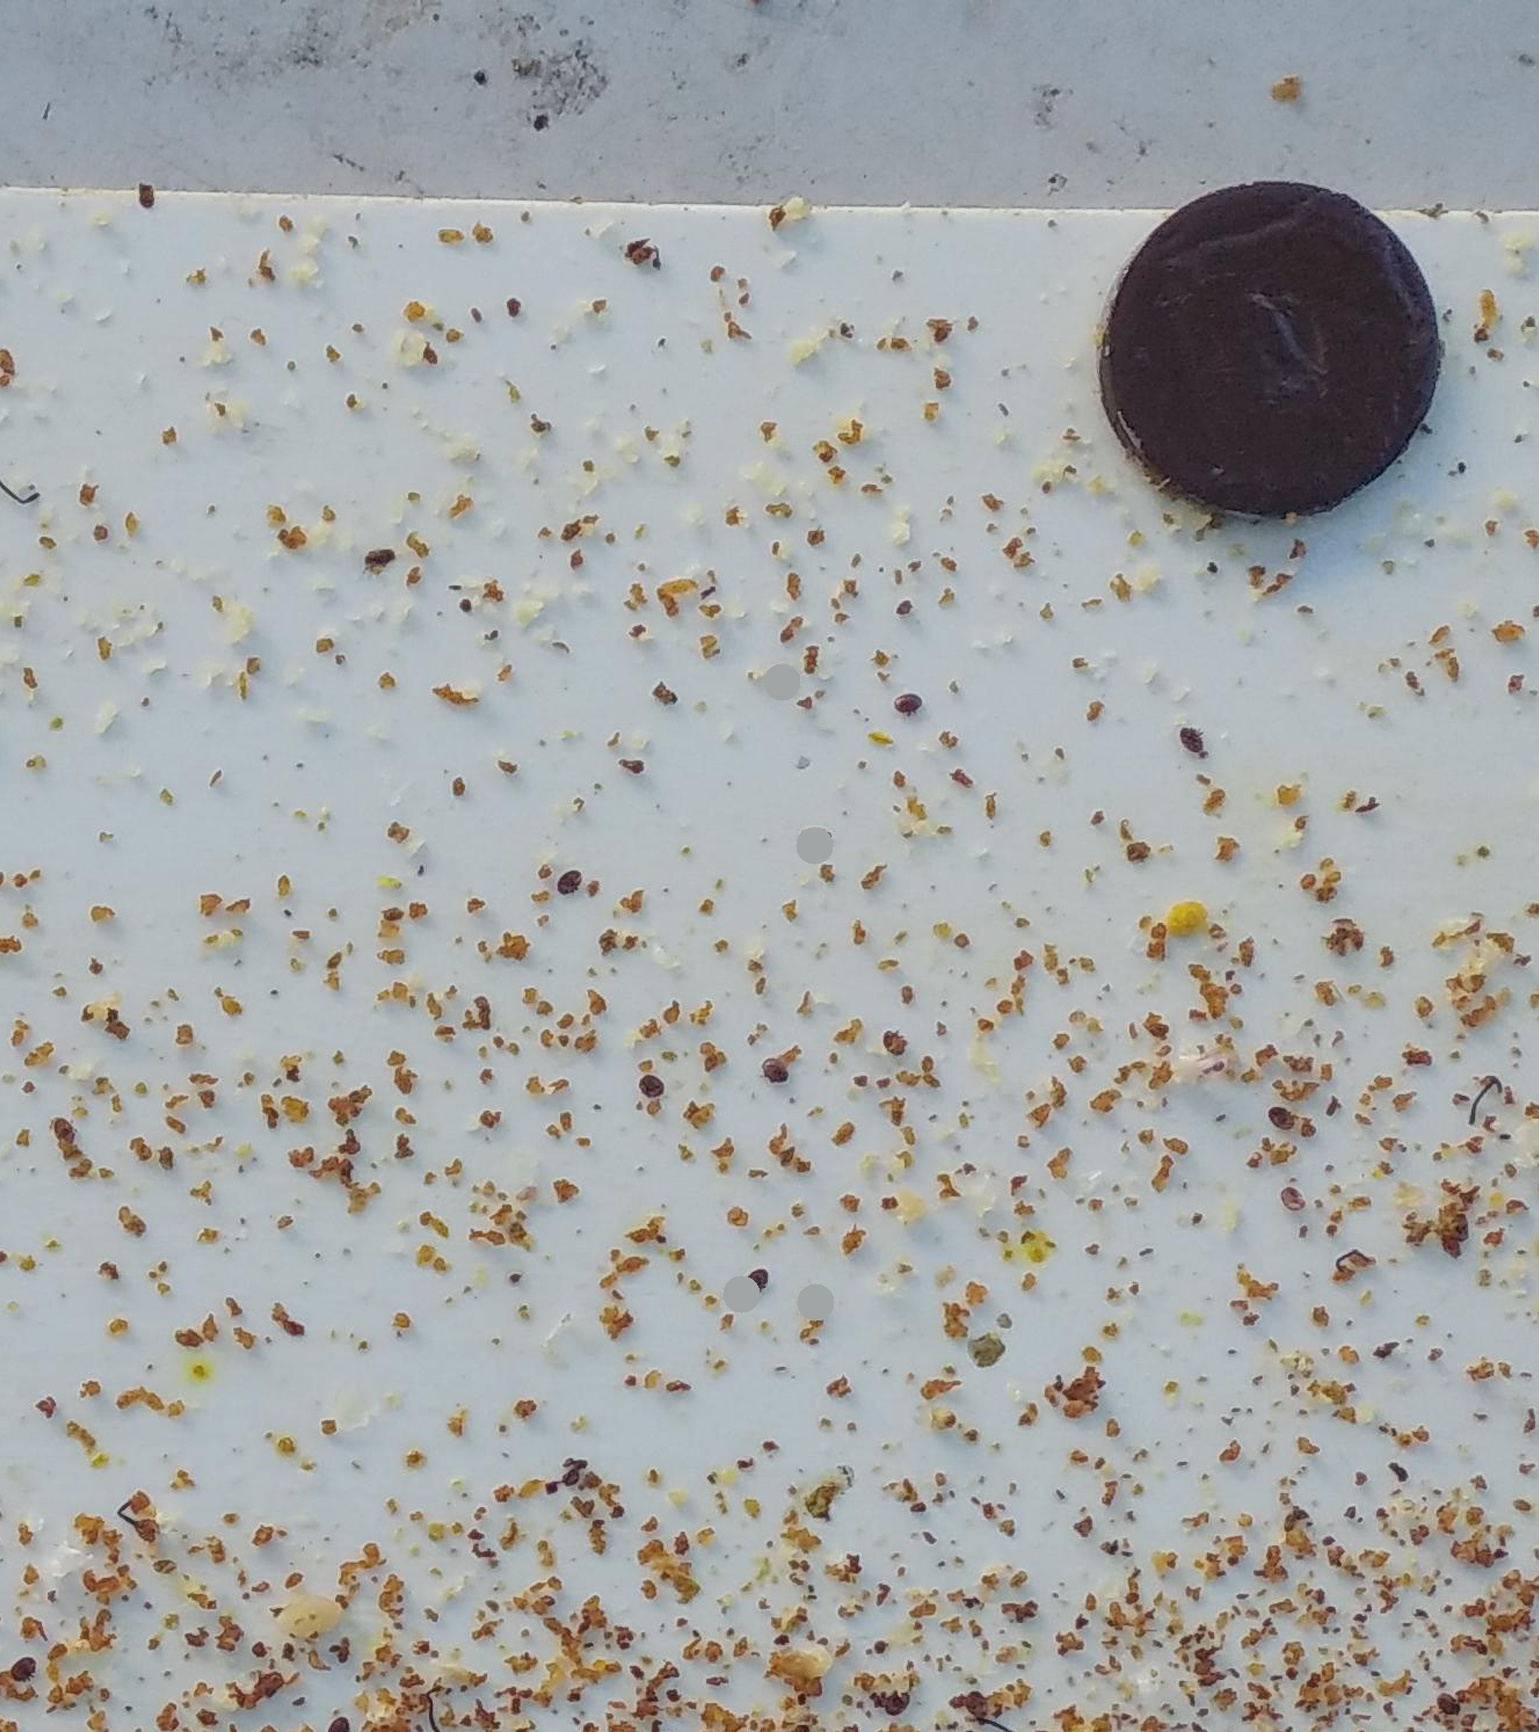Varroa: (955, 1681, 997, 1725), (1428, 1684, 1469, 1728), (4, 1652, 45, 1692), (631, 1068, 668, 1107), (545, 863, 581, 900), (872, 1679, 908, 1714), (1275, 1182, 1309, 1220), (890, 689, 925, 723), (876, 1029, 911, 1064), (746, 1263, 778, 1298), (1266, 1092, 1297, 1127), (1174, 725, 1206, 758), (762, 1044, 793, 1078)
